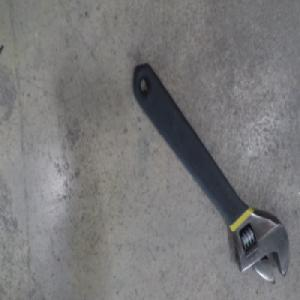AdjustableWrench: (131, 59, 289, 280)
